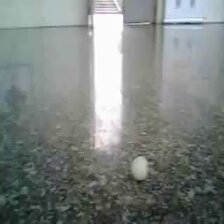w: (129, 155, 151, 182)
